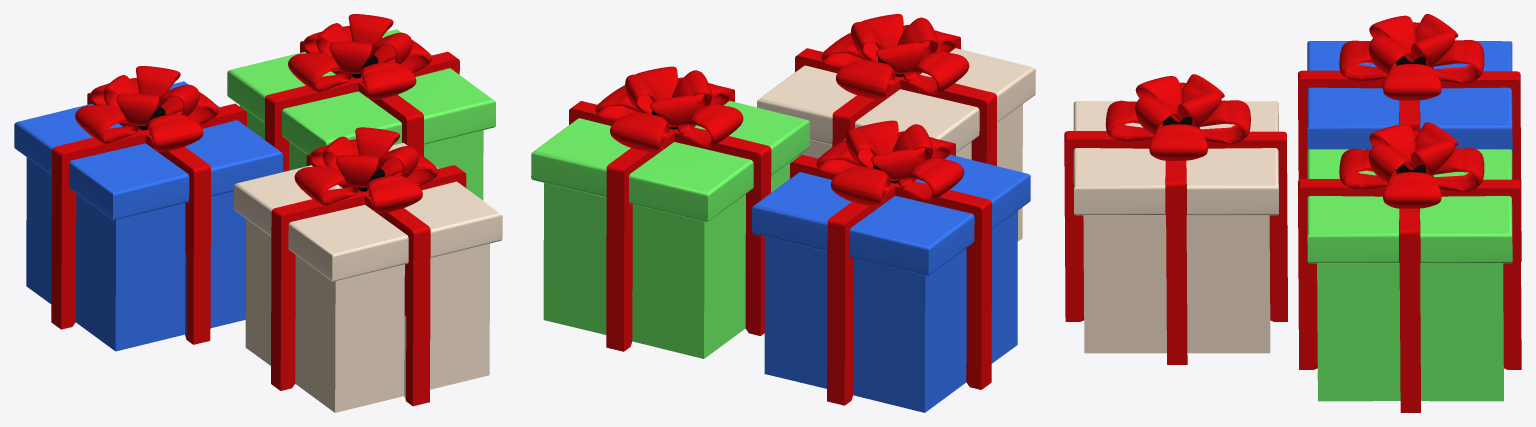
The model's file is christmas_gift_boxs.glb.
The picture shows the model from 3 angles, left to right: view 1: azimuth 30°, elevation 25°; view 2: azimuth 150°, elevation 25°; view 3: azimuth 270°, elevation 25°; orthographic projection. The views are drawn at different scales.
Visible parts, largest first — view 1: Cube.022_24, Cube_1, Cube.011_13, Cube.032_34, Cube.010_12, Cube.021_23, Cube.027_29, Cube.004_7, Cube.016_18, Cube.025_27, Cube.014_16, Cube.001_5 (+15 smaller); view 2: Cube_1, Cube.011_13, Cube.022_24, Cube.010_12, Cube.021_23, Cube.032_34, Cube.004_7, Cube.027_29, Cube.016_18, Cube.002_3, Cube.023_25, Cube.012_14 (+15 smaller); view 3: Cube.022_24, Cube.011_13, Cube_1, Cube.021_23, Cube.032_34, Cube.010_12, Cube.003_6, Cube.015_17, Cube.026_28, Cube.012_14, Cube.023_25, Cube.002_3 (+15 smaller).
Part boxes in pixels (x1=…): Cube.022_24: x1=234, y1=142, x2=502, y2=412; Cube_1: x1=14, y1=81, x2=282, y2=351; Cube.011_13: x1=227, y1=29, x2=495, y2=200; Cube.032_34: x1=271, y1=154, x2=466, y2=406; Cube.010_12: x1=51, y1=93, x2=246, y2=344; Cube.021_23: x1=265, y1=41, x2=459, y2=171; Cube.027_29: x1=294, y1=165, x2=358, y2=205; Cube.004_7: x1=75, y1=104, x2=139, y2=143; Cube.016_18: x1=288, y1=52, x2=352, y2=91; Cube.025_27: x1=367, y1=175, x2=422, y2=213; Cube.014_16: x1=360, y1=62, x2=416, y2=100; Cube.001_5: x1=147, y1=114, x2=203, y2=151; Cube_1: x1=752, y1=138, x2=1030, y2=412; Cube.011_13: x1=531, y1=84, x2=809, y2=358; Cube.022_24: x1=757, y1=32, x2=1035, y2=241; Cube.010_12: x1=789, y1=139, x2=991, y2=405; Cube.021_23: x1=569, y1=85, x2=771, y2=351; Cube.032_34: x1=795, y1=32, x2=996, y2=165; Cube.004_7: x1=898, y1=158, x2=964, y2=201; Cube.027_29: x1=903, y1=51, x2=969, y2=94; Cube.016_18: x1=677, y1=104, x2=743, y2=147; Cube.002_3: x1=831, y1=166, x2=890, y2=205; Cube.023_25: x1=836, y1=60, x2=895, y2=99; Cube.012_14: x1=610, y1=113, x2=669, y2=151; Cube.022_24: x1=1073, y1=101, x2=1278, y2=353; Cube.011_13: x1=1307, y1=149, x2=1512, y2=401; Cube_1: x1=1307, y1=41, x2=1512, y2=153; Cube.021_23: x1=1298, y1=179, x2=1521, y2=412; Cube.032_34: x1=1064, y1=131, x2=1287, y2=364; Cube.010_12: x1=1298, y1=70, x2=1521, y2=261; Cube.003_6: x1=1383, y1=64, x2=1441, y2=100; Cube.015_17: x1=1383, y1=172, x2=1441, y2=208; Cube.026_28: x1=1149, y1=124, x2=1207, y2=160; Cube.012_14: x1=1426, y1=148, x2=1484, y2=191; Cube.023_25: x1=1192, y1=100, x2=1250, y2=143; Cube.002_3: x1=1426, y1=40, x2=1484, y2=83.
Size of what is drawn, in the model's own units: 0.515 by 0.281 by 0.492.
